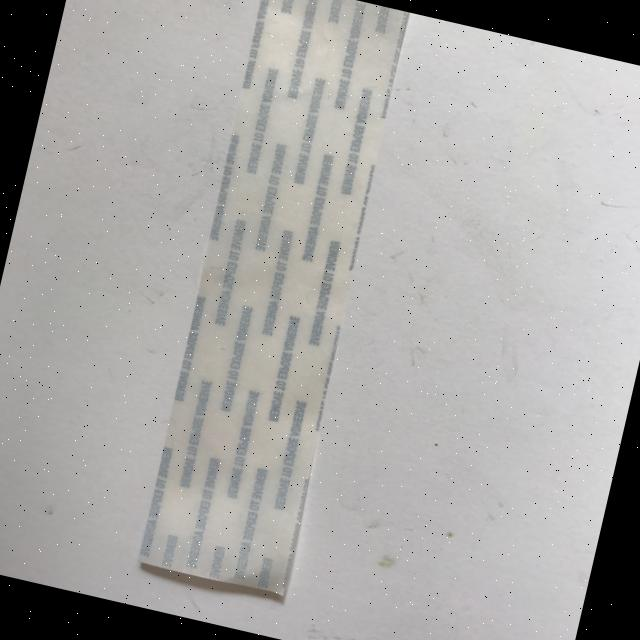paper: (0, 0, 640, 640), (129, 0, 417, 598)
